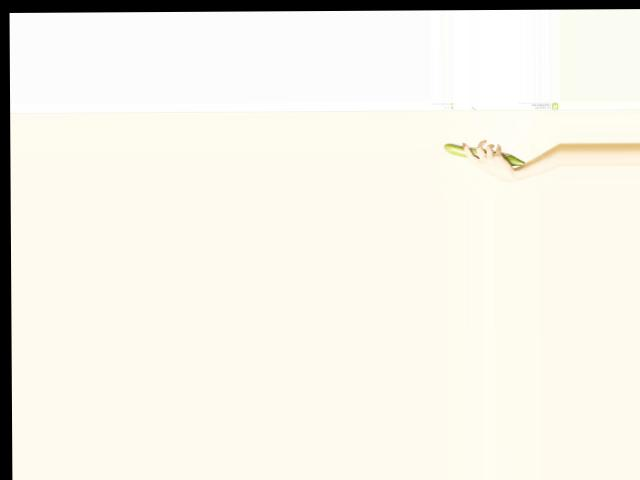cucumber: (444, 141, 526, 165)
